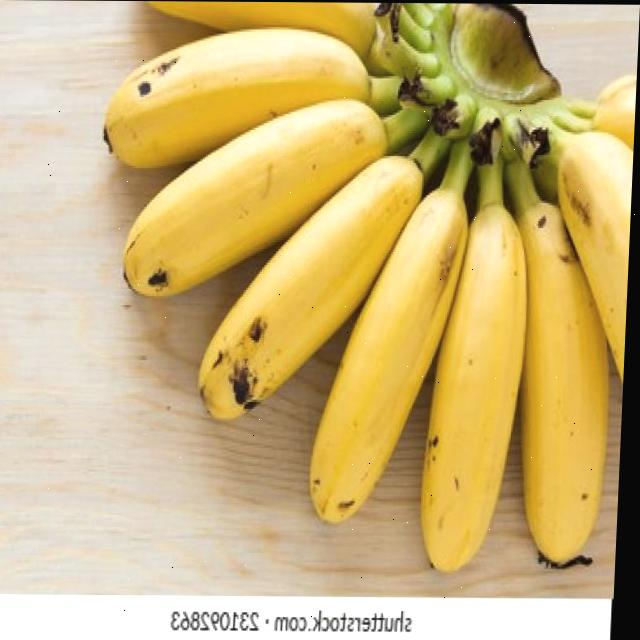banana: (79, 1, 640, 581)
